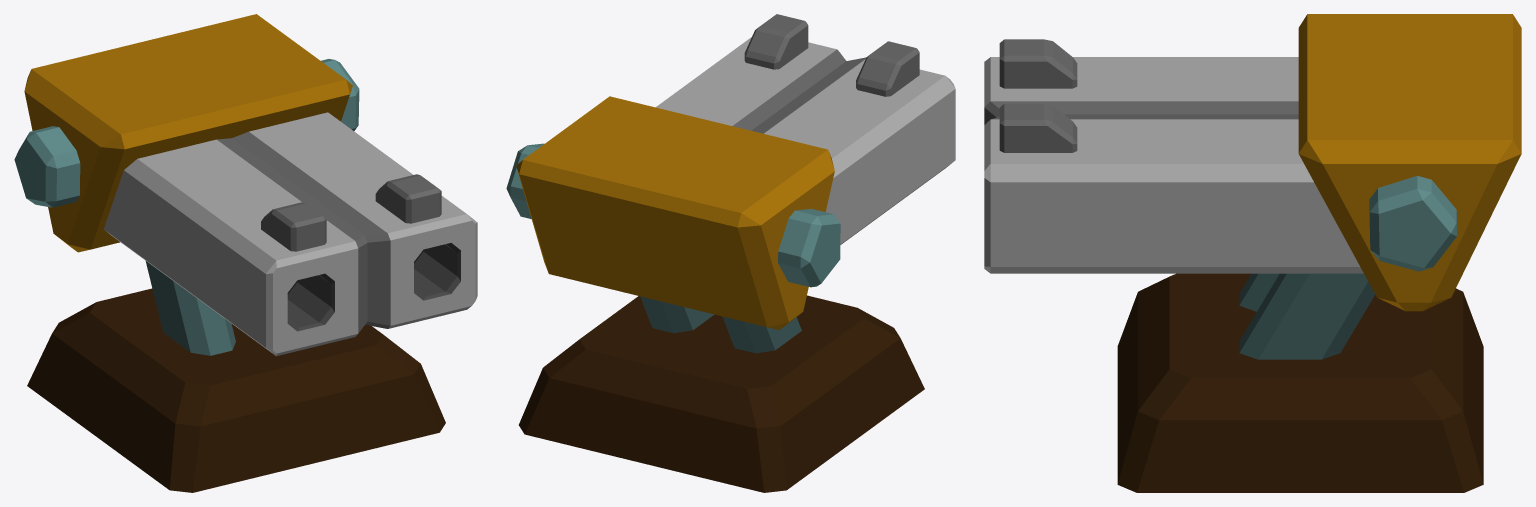
File: shotgun.fbx
3 renders of one model, left to right at view 1: azimuth 30°, elevation 25°; view 2: azimuth 150°, elevation 25°; view 3: azimuth 270°, elevation 25°, orthographic. The views are drawn at different scales.
Visible parts, largest first — view 1: Turret, Base; view 2: Turret, Base; view 3: Turret, Base.
Part boxes in pixels (bbox=[...]): Turret: bbox=[14, 14, 477, 356]; Base: bbox=[27, 288, 445, 492]; Turret: bbox=[506, 14, 955, 353]; Base: bbox=[519, 295, 924, 492]; Turret: bbox=[984, 14, 1521, 359]; Base: bbox=[1117, 273, 1483, 492].
Bounding box in the file's own units: 60.89 × 54.78 × 78.78.
